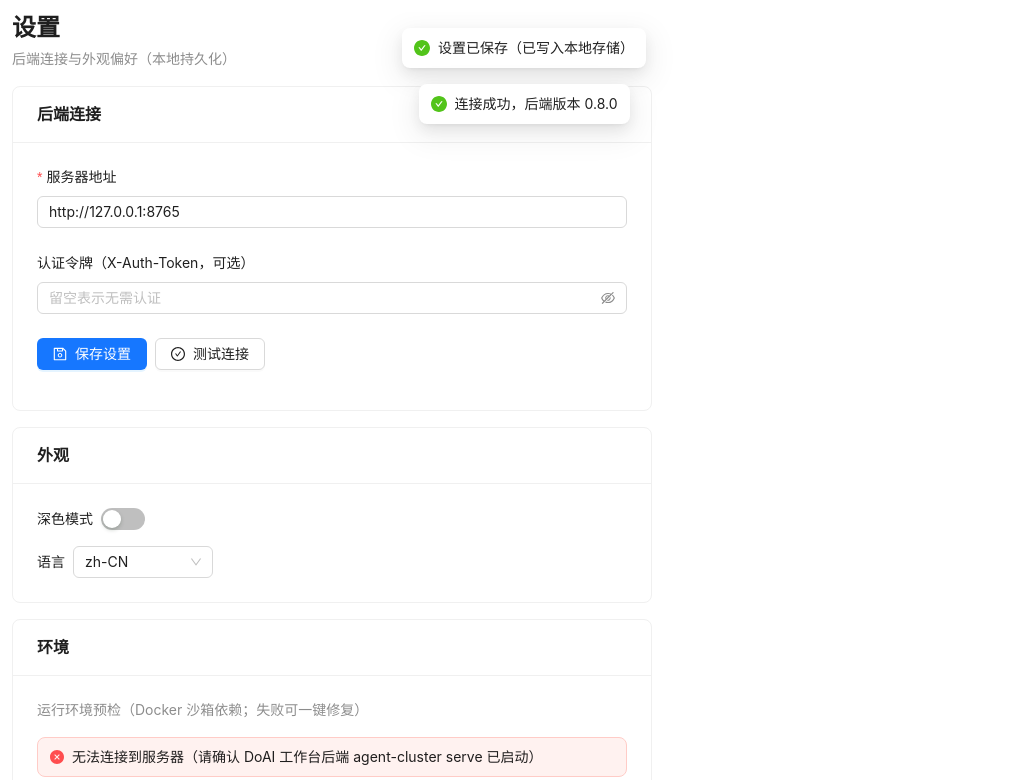
Test: Settings 页面 › 测试连接失败显示错误提示
Click the button with test id "test-connection-btn" at (210, 354), box [155,338,265,370]
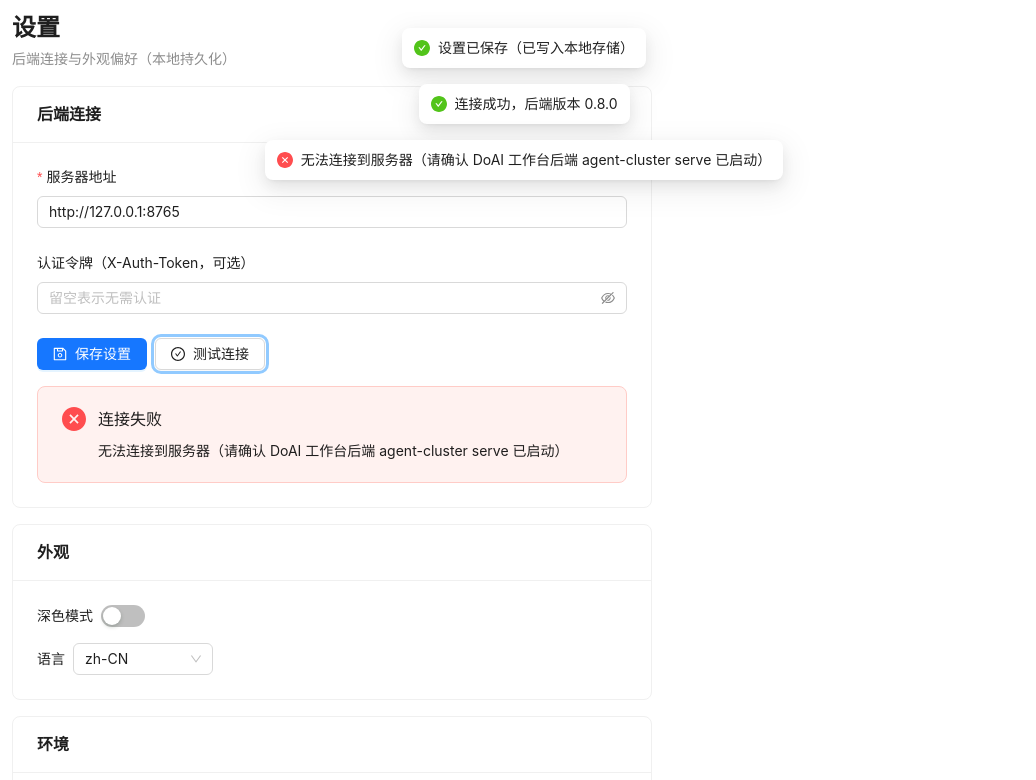
Expected: the message "连接失败 无法连接到服务器（请确认 DoAI 工作台后端 agent-cluster serve 已启动）" is shown, [37,386,627,483]
